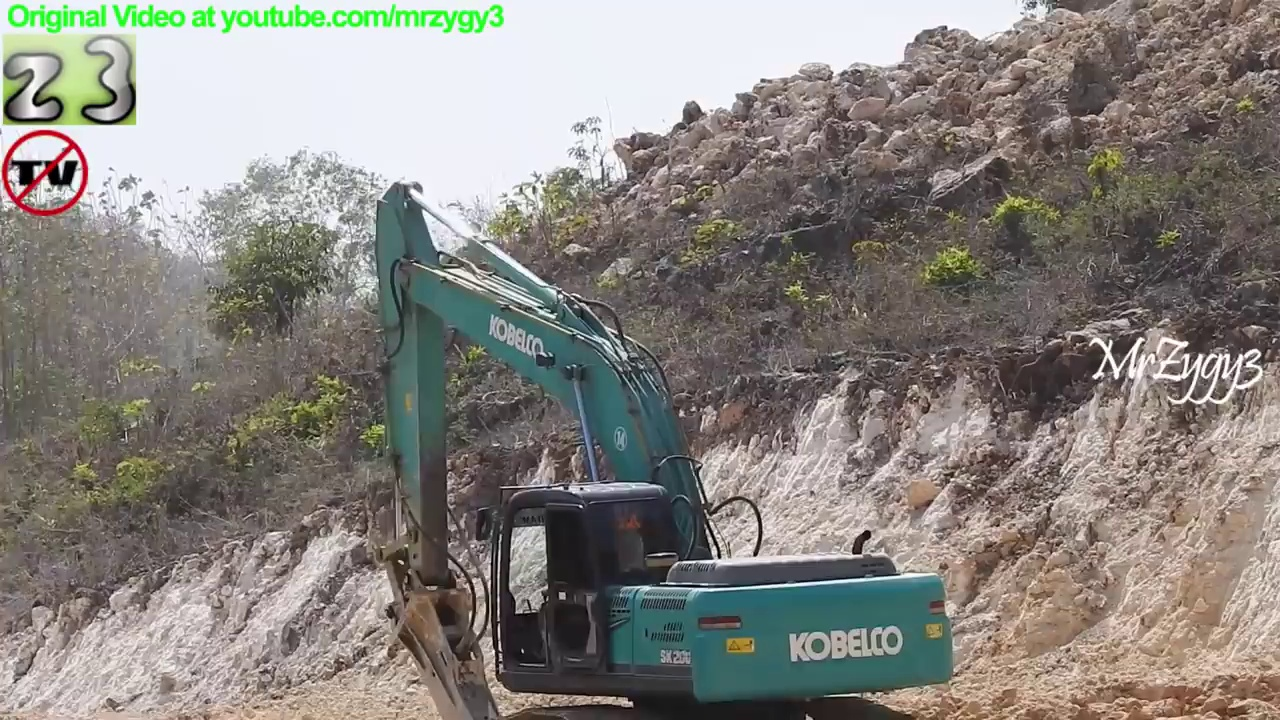excavator: (358, 174, 968, 720)
